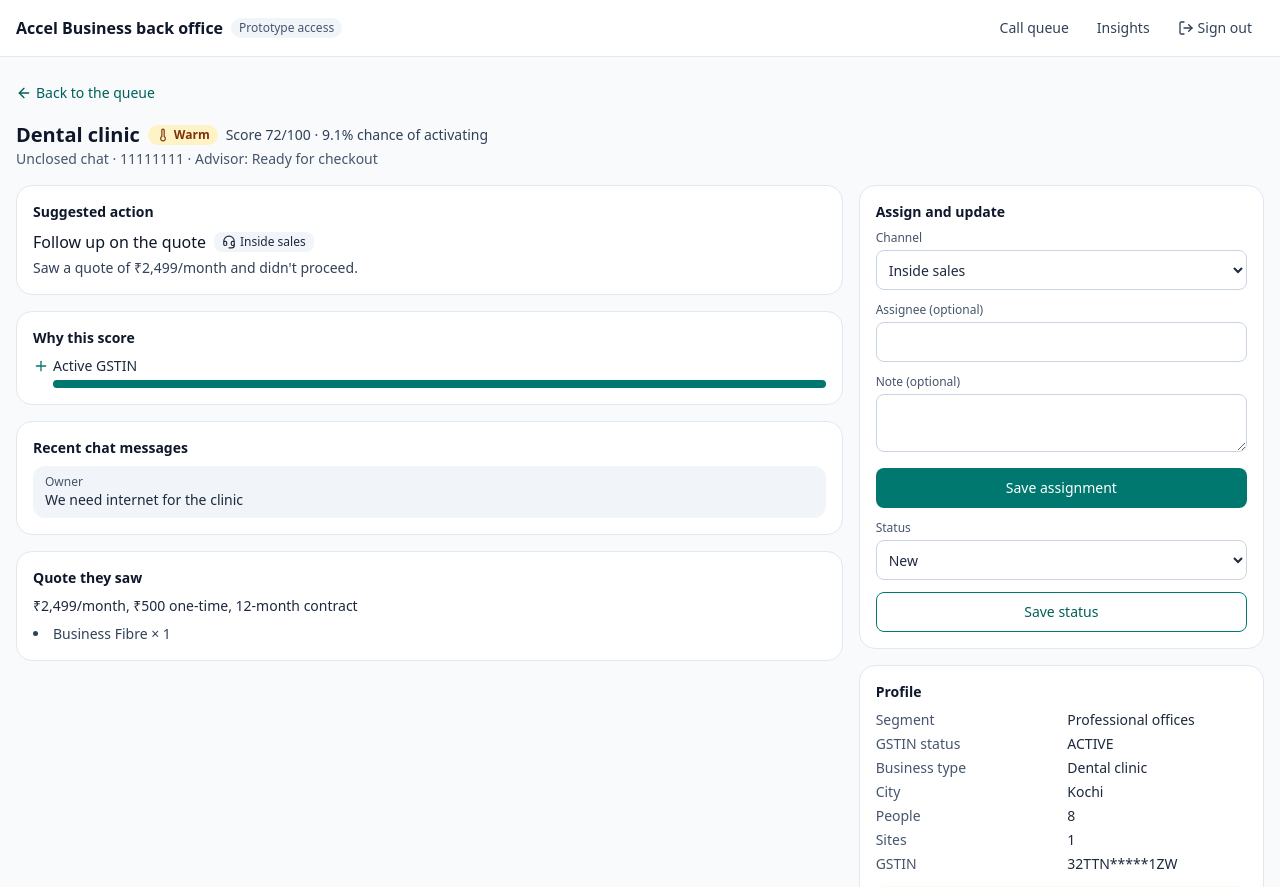
Test: lead detail › shows the server's refusal
Click the button "Save assignment" at [1061, 488], box top-left (876, 468), bottom-right (1247, 508)
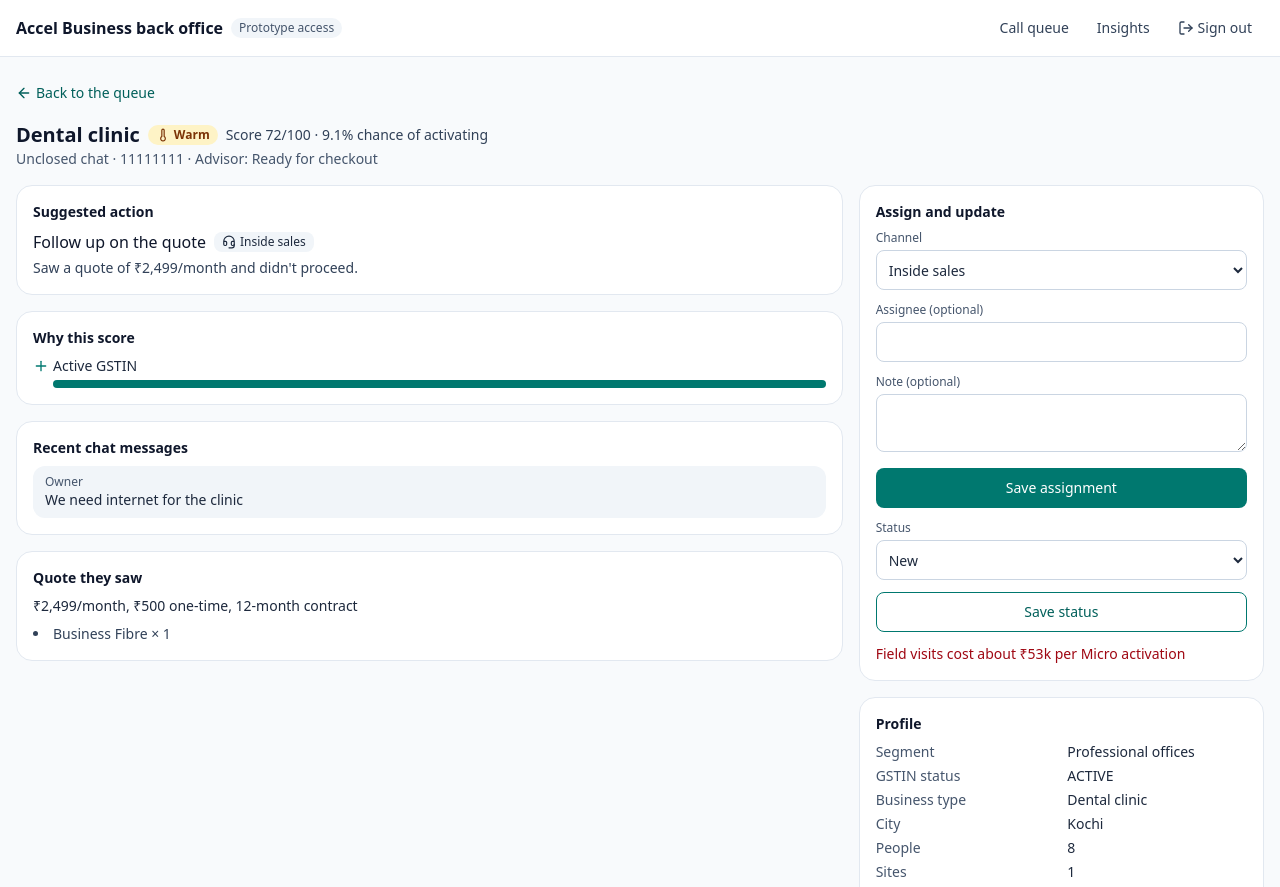
Check: the message shows "₹53k", box top-left (876, 644), bottom-right (1185, 663)
